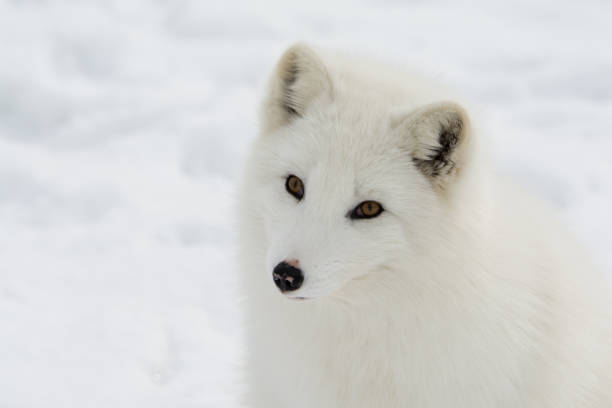arcticfox: (235, 97, 442, 353)
